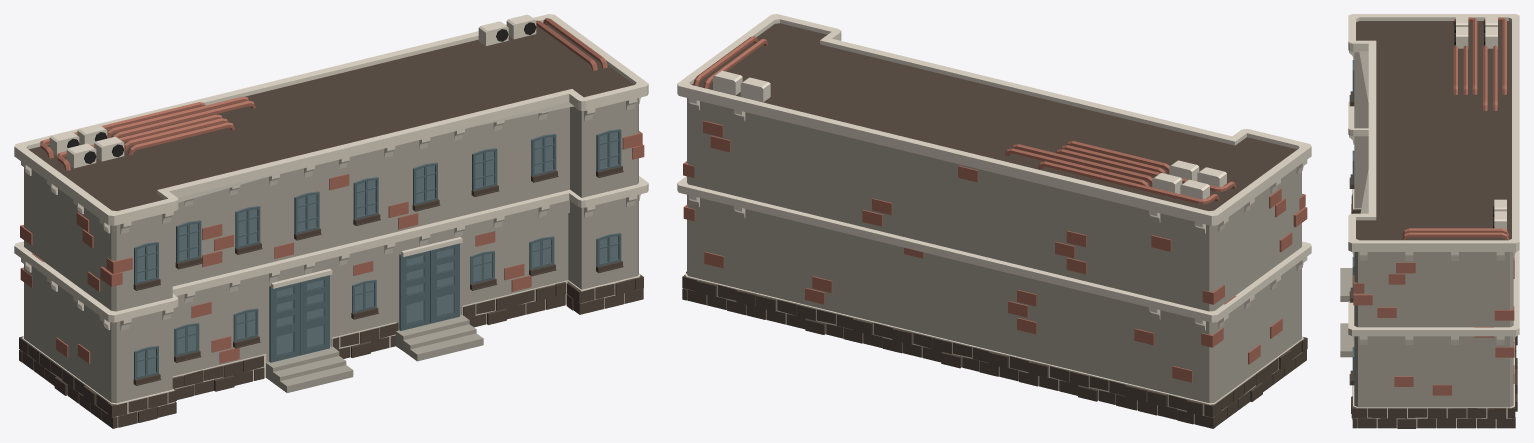
File: cairo-depot.glb
3 renders of one model, left to right at view 1: azimuth 30°, elevation 25°; view 2: azimuth 150°, elevation 25°; view 3: azimuth 270°, elevation 25°, orthographic. The views are drawn at different scales.
Size of the model in its own units: 6.83 by 2.75 by 2.26.
